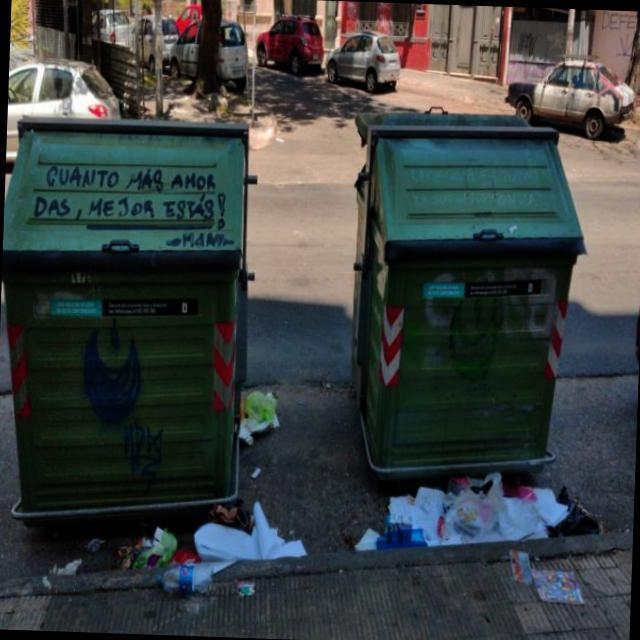garbage: (38, 489, 310, 614), (344, 460, 616, 560), (502, 544, 588, 616), (232, 385, 282, 482)
